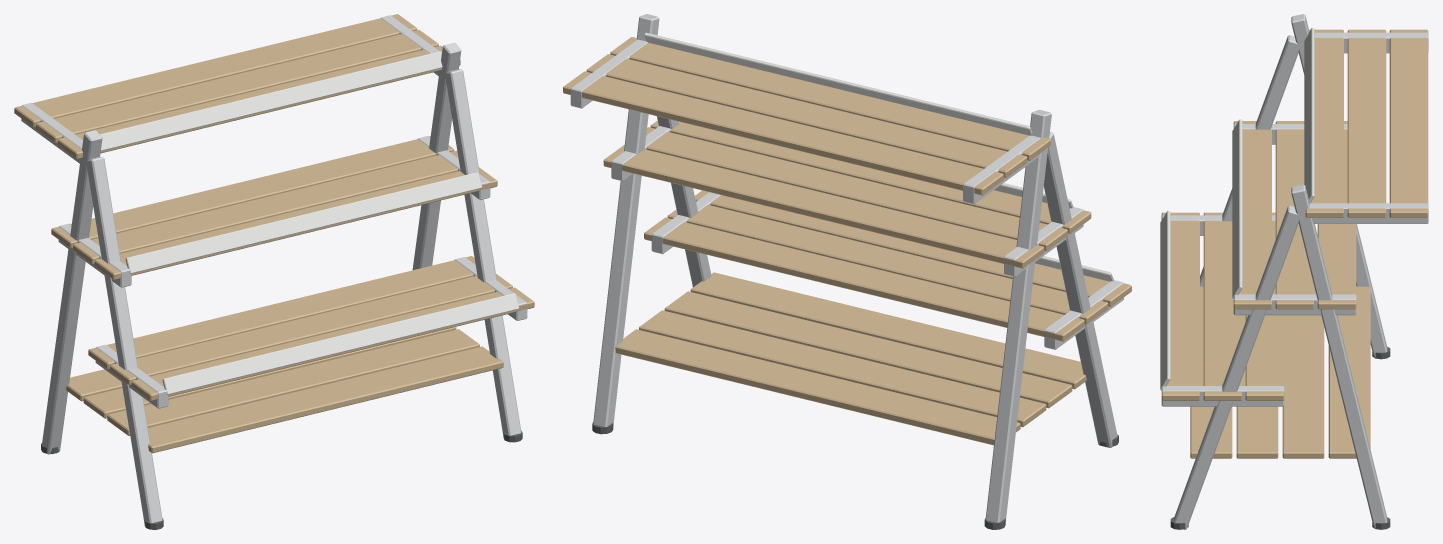
File: garden-centre-and-florist-tiered-plant-display-stand-8ba356f7__17718.glb
3 views of the same model, side by side, from view 1: azimuth 30°, elevation 25°; view 2: azimuth 150°, elevation 25°; view 3: azimuth 270°, elevation 25° (orthographic). The views are drawn at different scales.
Parts seen in each view (by area): view 1: tiered-plant-display-stand; view 2: tiered-plant-display-stand; view 3: tiered-plant-display-stand.
Part boxes in pixels (x1,y1,x2,y2): tiered-plant-display-stand: [14, 14, 534, 529]; tiered-plant-display-stand: [563, 14, 1131, 529]; tiered-plant-display-stand: [1160, 14, 1428, 529].
Bounding box in the file's own units: 1.2 × 1.04 × 0.7446.
